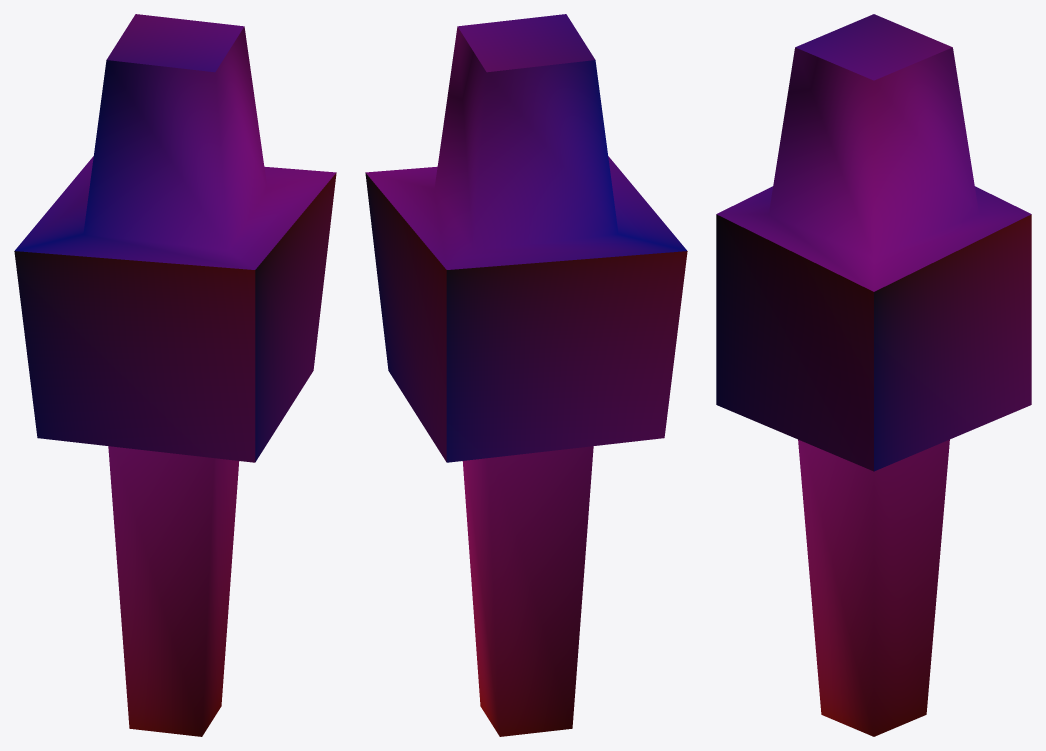
The model's file is model_2CBC.glb.
3 renders of one model, left to right at view 1: azimuth 30°, elevation 25°; view 2: azimuth 150°, elevation 25°; view 3: azimuth 270°, elevation 25°, orthographic.
Parts seen in each view (by area): view 1: part; view 2: part; view 3: part.
Boxes of the visible parts, x1,y1,x2,y2 form: part: [14, 14, 336, 736]; part: [365, 14, 687, 736]; part: [716, 14, 1031, 736].
Size of the model in its own units: 1806 by 3612 by 1548.
